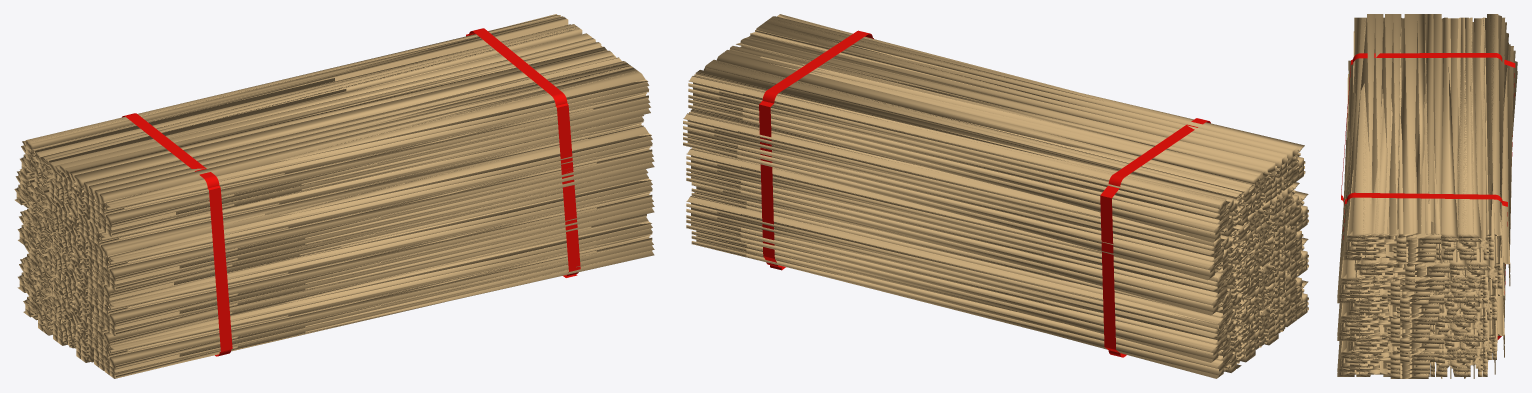
The model's file is jerami.fbx.
The picture shows the model from 3 angles, left to right: view 1: azimuth 30°, elevation 25°; view 2: azimuth 150°, elevation 25°; view 3: azimuth 270°, elevation 25°; orthographic projection. The views are drawn at different scales.
Parts seen in each view (by area): view 1: Plane; view 2: Plane; view 3: Plane.
Boxes of the visible parts, x1,y1,x2,y2 form: Plane: [14, 14, 654, 378]; Plane: [683, 14, 1308, 378]; Plane: [1337, 14, 1517, 378].
Bounding box in the file's own units: 534 × 174 × 187.
